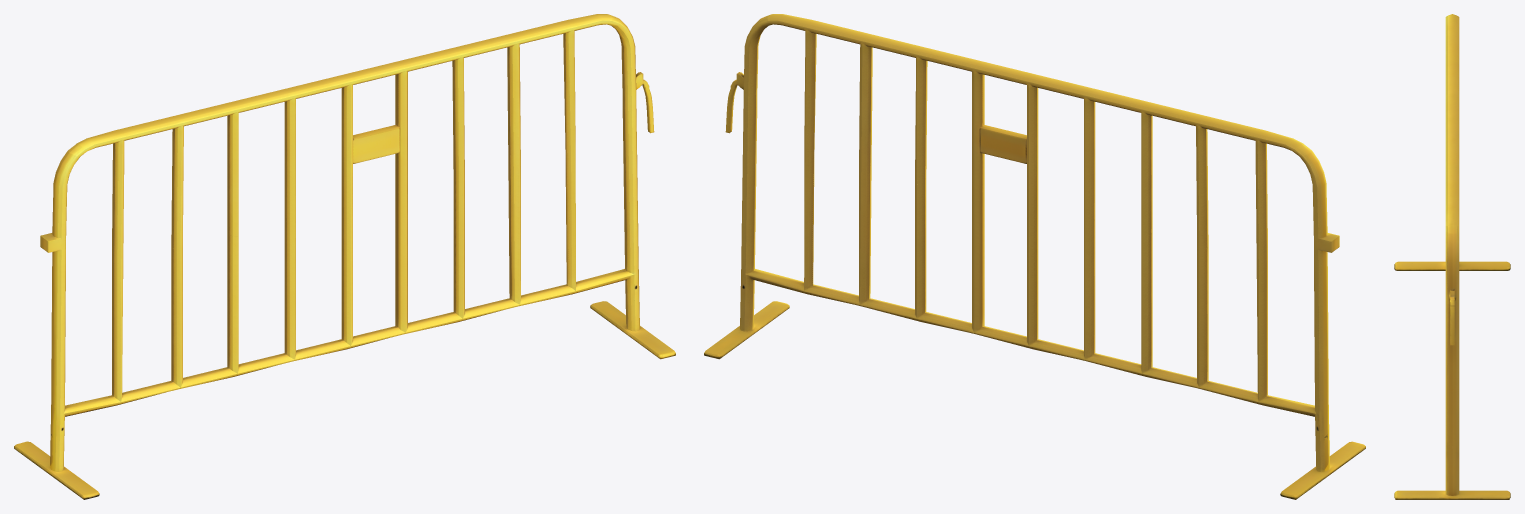
File: vallado_shaded.glb
The picture shows the model from 3 angles, left to right: view 1: azimuth 30°, elevation 25°; view 2: azimuth 150°, elevation 25°; view 3: azimuth 270°, elevation 25°; orthographic projection. The views are drawn at different scales.
Visible parts, largest first — view 1: model; view 2: model; view 3: model.
Part boxes in pixels (box(x1,y1,x2,y2)): model: box(14, 14, 675, 499); model: box(704, 14, 1365, 499); model: box(1394, 14, 1510, 499).
Bounding box in the file's own units: 1.95 × 1 × 0.3969.
Materials: 1 (1 with a texture image).
